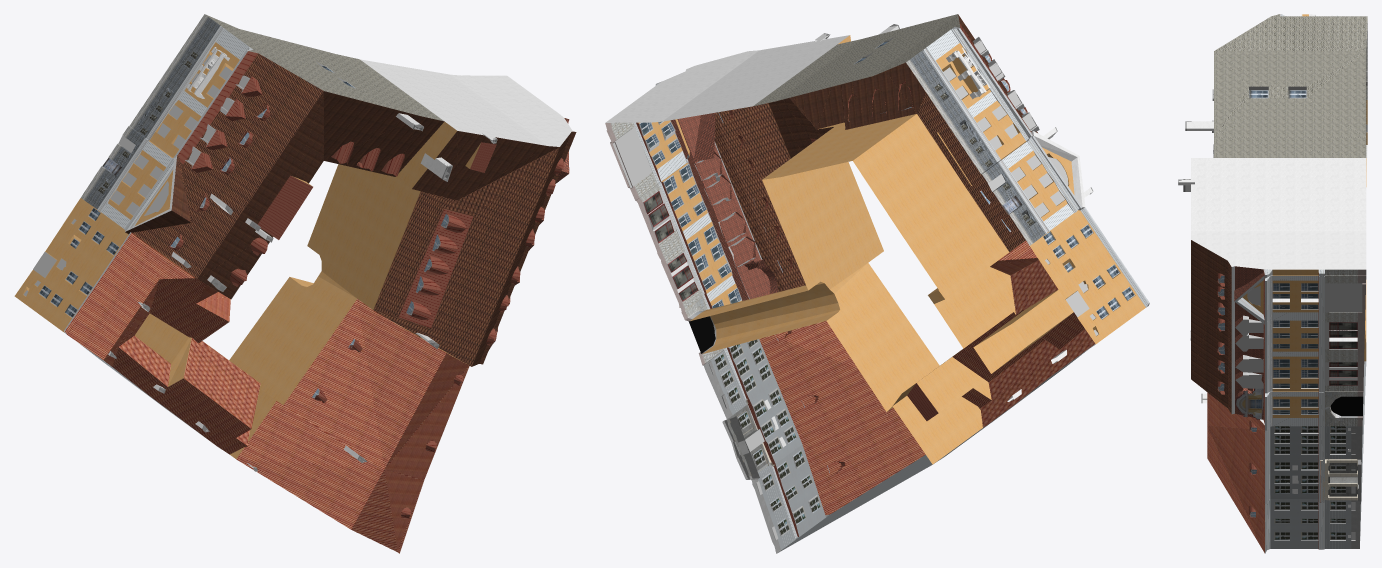
Rendered from Lai_39-origo.obj.
3 renders of one model, left to right at view 1: azimuth 30°, elevation 25°; view 2: azimuth 150°, elevation 25°; view 3: azimuth 270°, elevation 25°, orthographic. The views are drawn at different scales.
Parts seen in each view (by area): view 1: Lai_39; view 2: Lai_39; view 3: Lai_39.
Part boxes in pixels (box(x1,y1,x2,y2)): Lai_39: box(14, 14, 576, 553); Lai_39: box(605, 14, 1149, 553); Lai_39: box(1178, 14, 1367, 553).
Bounding box in the file's own units: 69.81 × 71 × 25.56.
